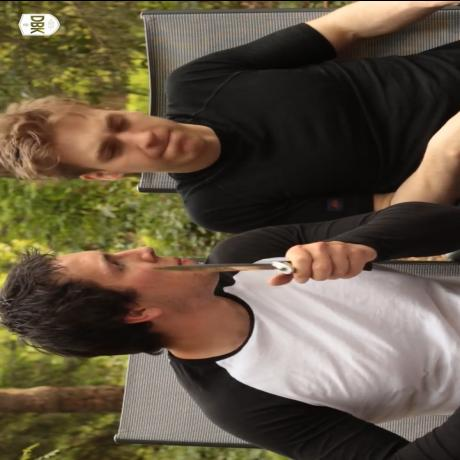1: (2, 208, 460, 460), (0, 0, 460, 231)
weapon: (146, 260, 300, 274)
